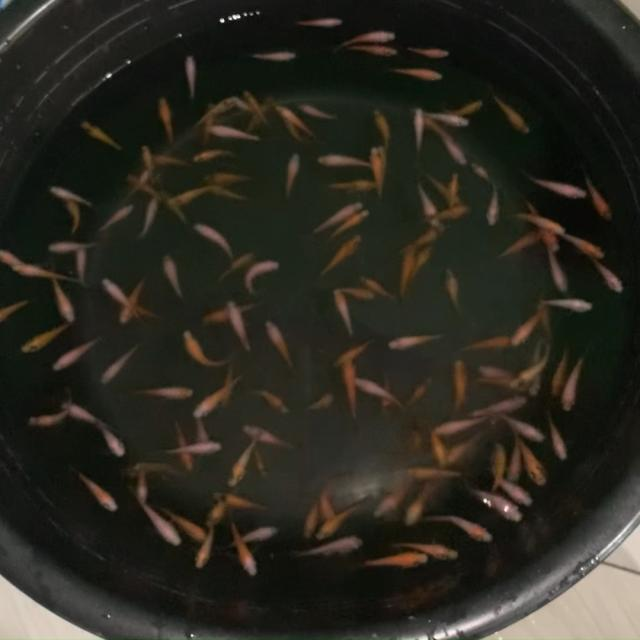nila: (224, 425, 268, 486), (192, 372, 246, 420), (136, 495, 184, 547), (59, 398, 124, 436), (316, 496, 369, 542), (466, 485, 526, 524), (222, 518, 262, 576), (100, 278, 144, 330), (292, 532, 367, 562), (306, 200, 362, 240), (318, 232, 363, 280), (424, 512, 496, 542), (180, 327, 230, 370), (72, 468, 120, 512), (522, 170, 592, 200), (330, 28, 398, 58), (98, 342, 141, 389), (511, 344, 554, 391), (26, 388, 74, 430), (261, 318, 298, 372), (458, 393, 530, 420), (19, 319, 74, 354), (156, 503, 208, 540), (200, 298, 260, 330), (351, 374, 403, 410), (490, 230, 543, 264), (50, 338, 101, 373), (192, 222, 236, 262), (492, 90, 532, 134), (226, 297, 254, 359), (224, 524, 286, 552), (396, 222, 450, 254), (420, 168, 465, 206), (360, 548, 430, 572), (402, 482, 437, 529), (391, 541, 464, 563), (491, 414, 548, 442), (429, 412, 488, 439), (585, 170, 614, 224), (79, 118, 125, 152), (116, 276, 146, 328), (276, 101, 318, 138), (470, 374, 540, 396), (518, 438, 550, 486), (328, 207, 373, 241), (331, 337, 377, 370), (561, 349, 585, 412), (512, 210, 568, 237), (50, 276, 80, 326), (203, 484, 237, 528), (245, 260, 282, 300), (12, 262, 76, 285), (240, 424, 296, 450), (529, 203, 558, 253), (478, 363, 538, 387), (162, 256, 191, 305), (212, 249, 255, 282), (560, 231, 607, 261), (590, 254, 624, 295), (213, 491, 276, 513), (341, 352, 361, 421), (322, 472, 348, 524), (240, 87, 272, 129), (246, 94, 278, 136), (197, 92, 240, 123), (446, 431, 484, 466), (156, 440, 222, 460), (456, 335, 516, 357), (207, 124, 266, 146), (387, 332, 448, 353), (276, 104, 308, 144), (332, 286, 354, 344), (372, 484, 407, 520), (97, 202, 136, 234), (417, 180, 443, 228), (250, 389, 294, 417), (128, 383, 196, 401), (548, 347, 572, 398), (503, 430, 523, 490), (162, 185, 214, 208), (116, 460, 182, 478), (340, 42, 402, 61), (401, 462, 474, 478), (396, 242, 416, 300), (497, 480, 538, 508), (134, 194, 160, 238), (390, 64, 446, 84), (536, 295, 598, 313), (526, 336, 544, 398), (282, 150, 303, 202), (358, 274, 400, 300), (545, 247, 568, 294), (197, 518, 218, 569), (47, 184, 93, 207), (444, 268, 466, 316), (404, 414, 426, 462), (182, 52, 203, 102), (96, 420, 124, 457), (422, 206, 476, 225), (304, 389, 342, 416), (511, 313, 544, 344), (158, 189, 186, 225), (194, 410, 214, 460), (422, 109, 472, 129), (548, 412, 568, 462), (127, 173, 164, 200), (172, 427, 194, 472), (410, 240, 436, 278), (537, 298, 558, 345), (0, 294, 34, 323), (199, 98, 218, 149), (323, 177, 380, 194), (296, 99, 342, 120), (404, 42, 454, 61), (158, 94, 176, 145), (426, 429, 450, 467), (368, 146, 384, 202), (452, 356, 468, 412), (406, 377, 433, 410), (128, 164, 154, 198), (442, 98, 484, 119), (412, 104, 430, 153), (48, 238, 102, 254), (488, 438, 504, 492), (62, 196, 84, 235), (486, 180, 503, 230), (132, 464, 152, 506), (315, 153, 379, 166), (204, 182, 248, 200), (424, 114, 450, 144), (444, 134, 468, 166), (377, 368, 393, 416), (75, 246, 92, 291), (221, 364, 238, 409), (373, 106, 393, 144), (190, 148, 237, 164), (446, 170, 462, 217), (252, 442, 271, 480), (303, 500, 321, 540), (335, 286, 378, 302), (292, 17, 346, 29), (130, 304, 166, 322), (201, 170, 253, 182), (142, 145, 158, 183), (378, 144, 391, 190), (248, 50, 298, 61), (0, 248, 26, 269), (230, 97, 256, 114), (146, 155, 184, 166), (473, 163, 492, 181)
